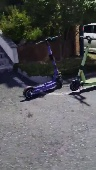beam: (21, 36, 67, 99)
gcooter: (69, 35, 96, 93)
